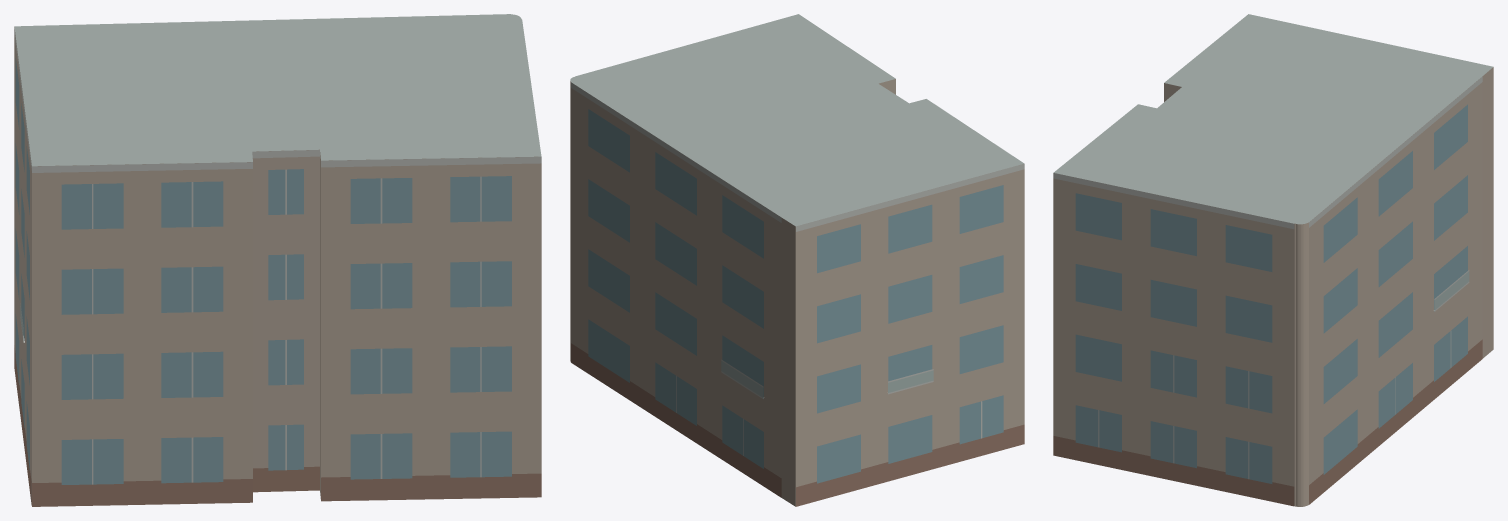
The model's file is survey-upis-32994432.glb.
3 renders of one model, left to right at view 1: azimuth 30°, elevation 25°; view 2: azimuth 150°, elevation 25°; view 3: azimuth 270°, elevation 25°, orthographic. The views are drawn at different scales.
Visible parts, largest first — view 1: survey-upis-32994432.tmp; view 2: survey-upis-32994432.tmp; view 3: survey-upis-32994432.tmp.
Boxes of the visible parts, x1,y1,x2,y2 form: survey-upis-32994432.tmp: (14, 14, 541, 506); survey-upis-32994432.tmp: (570, 14, 1024, 506); survey-upis-32994432.tmp: (1053, 14, 1493, 506).
Bounding box in the file's own units: 19.47 × 12.2 × 17.23.
